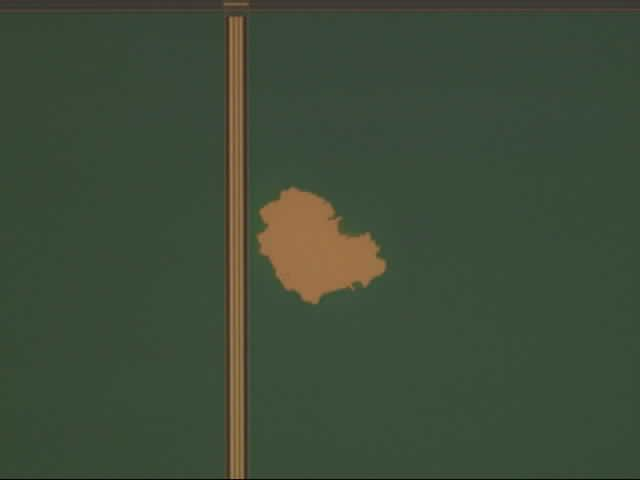BLOCK ETCH: (252, 181, 391, 309)
